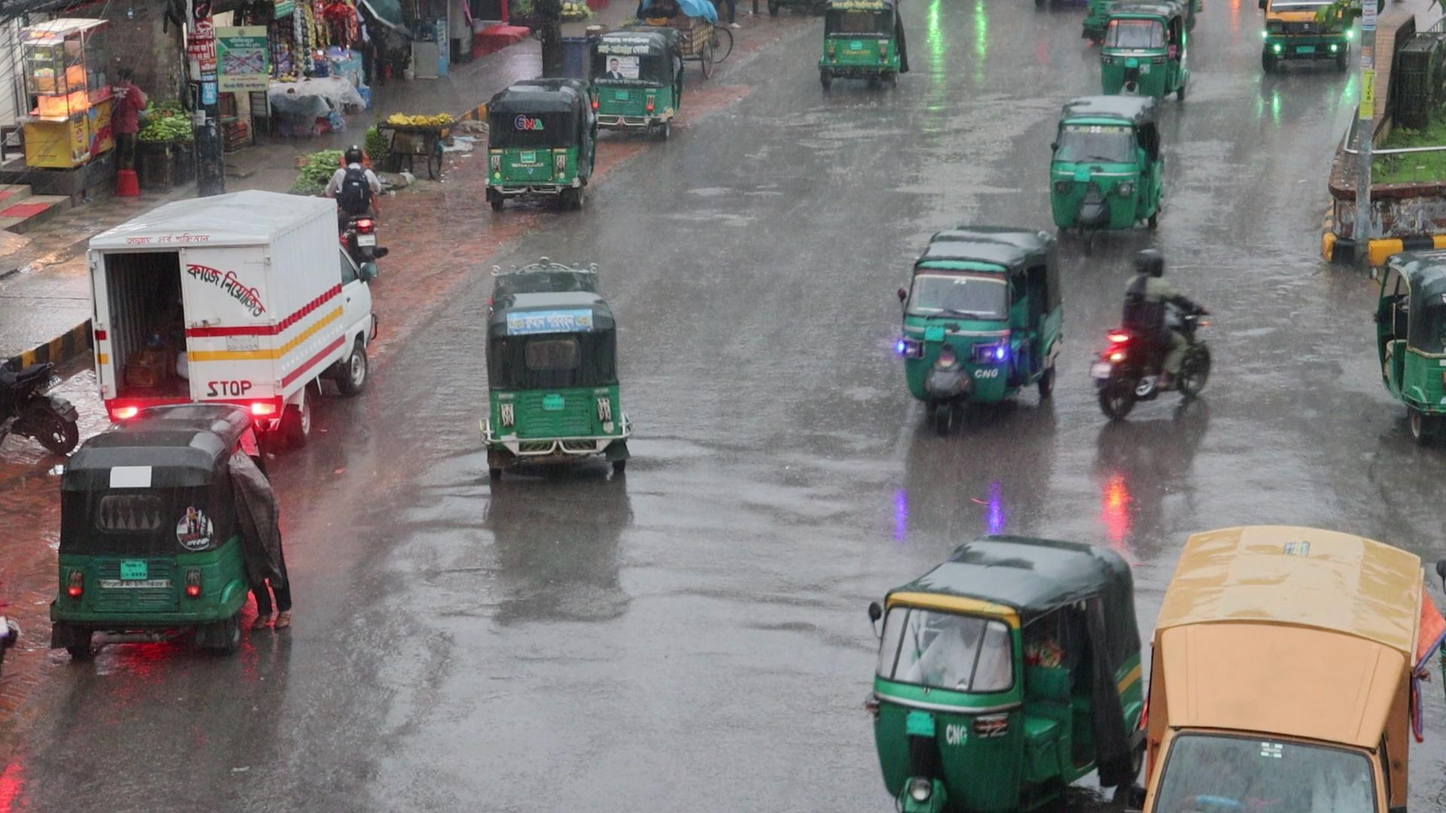Bike: (1087, 247, 1213, 423)
